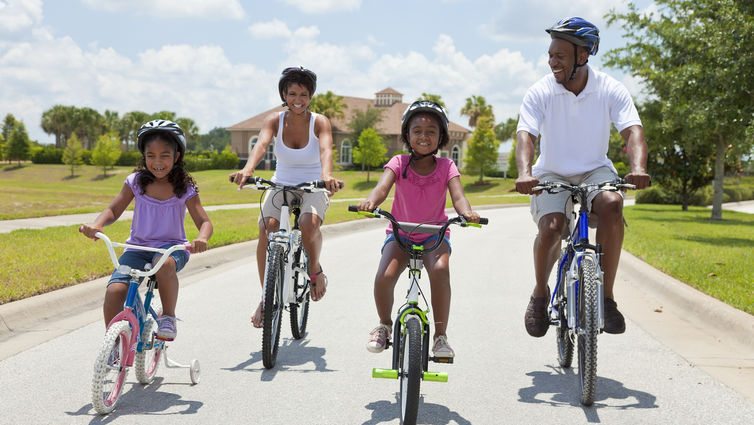helmet: (545, 16, 600, 84), (137, 119, 186, 178), (401, 100, 450, 155), (278, 65, 317, 114)
